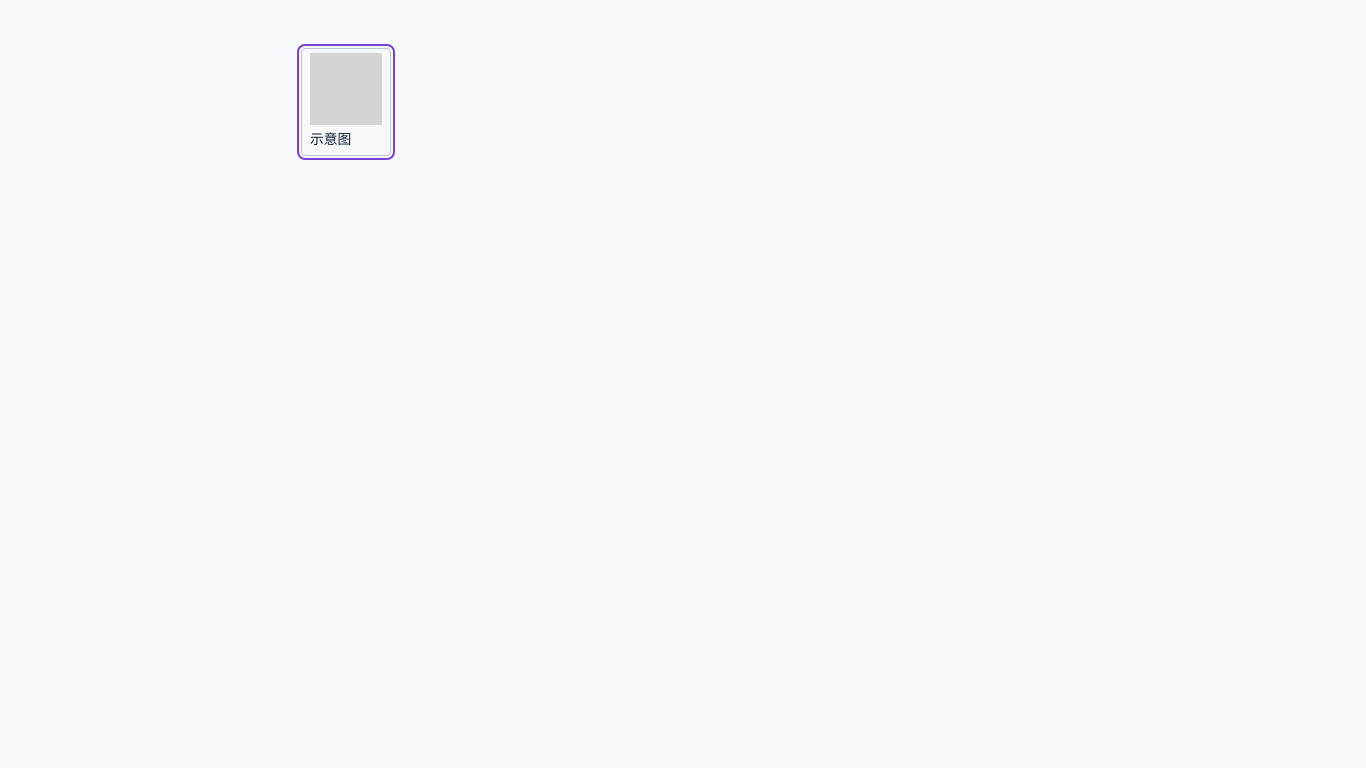
M3 资源与交互装配 › 就绪图片点击开 Lightbox，Esc 关闭并把焦点还给触发元素
Click the element with class "readora-image" at [346, 102], box [301,48,391,156]
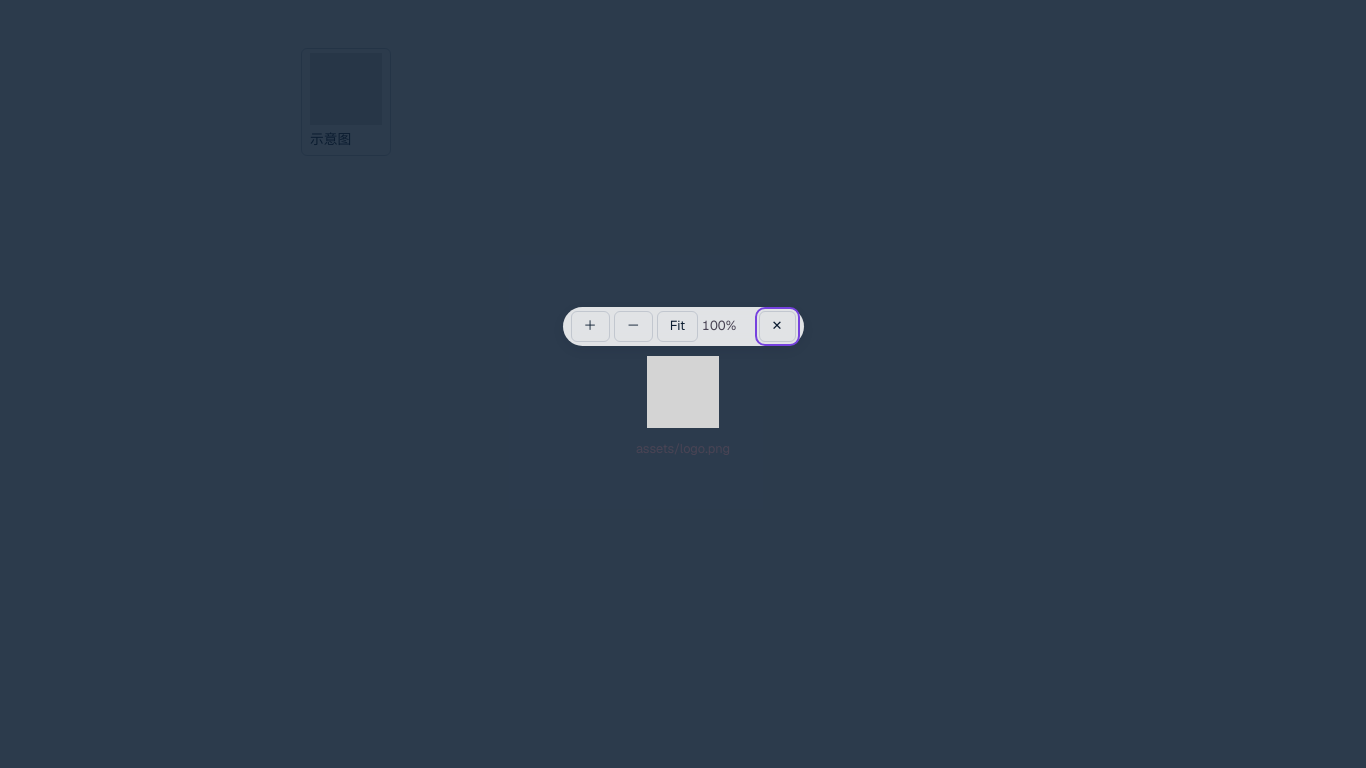
Expected: the text with class "readora-lightbox-caption" reads "assets/logo.png", [636,440,730,457]
Press +
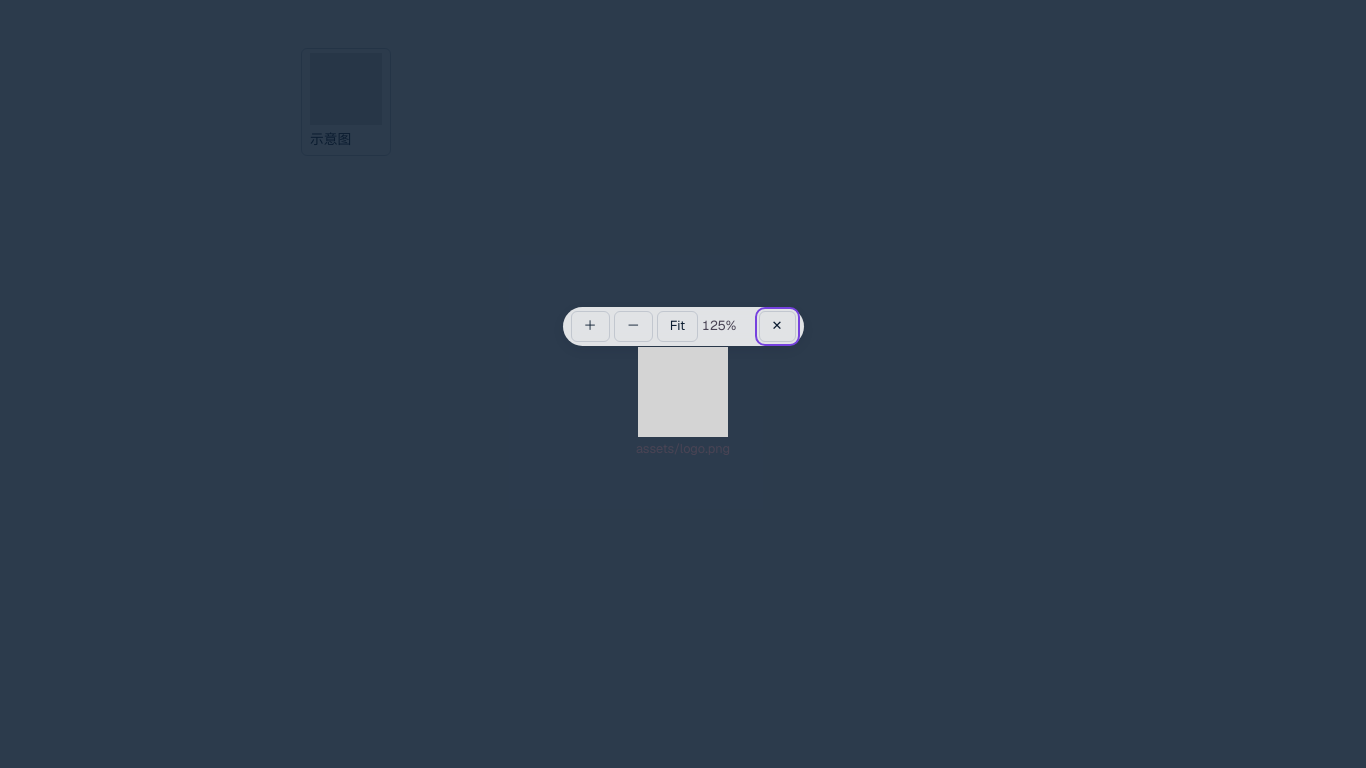
Expected: the text with class "readora-lightbox-scale" reads "125%", [702,317,736,334]
Press Escape
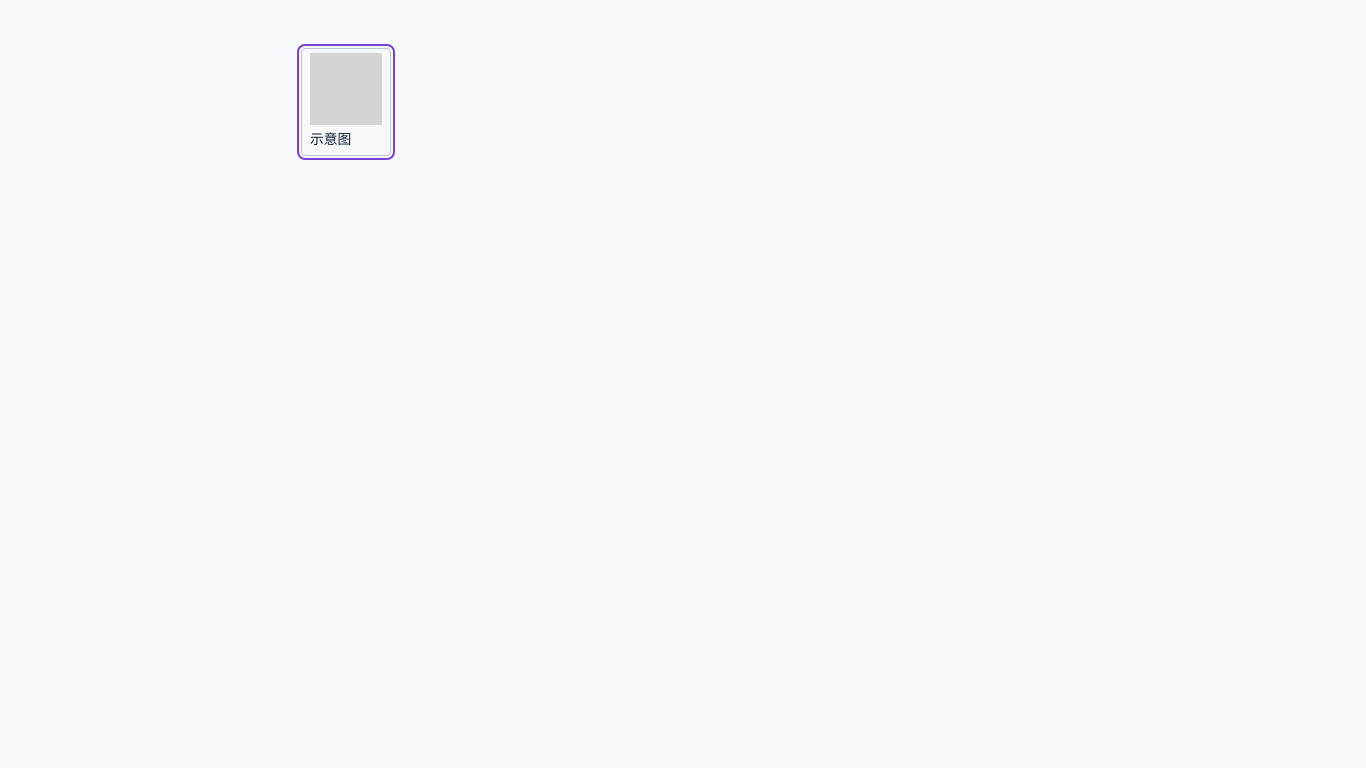
Expected: the dialog with class "readora-lightbox" is gone
